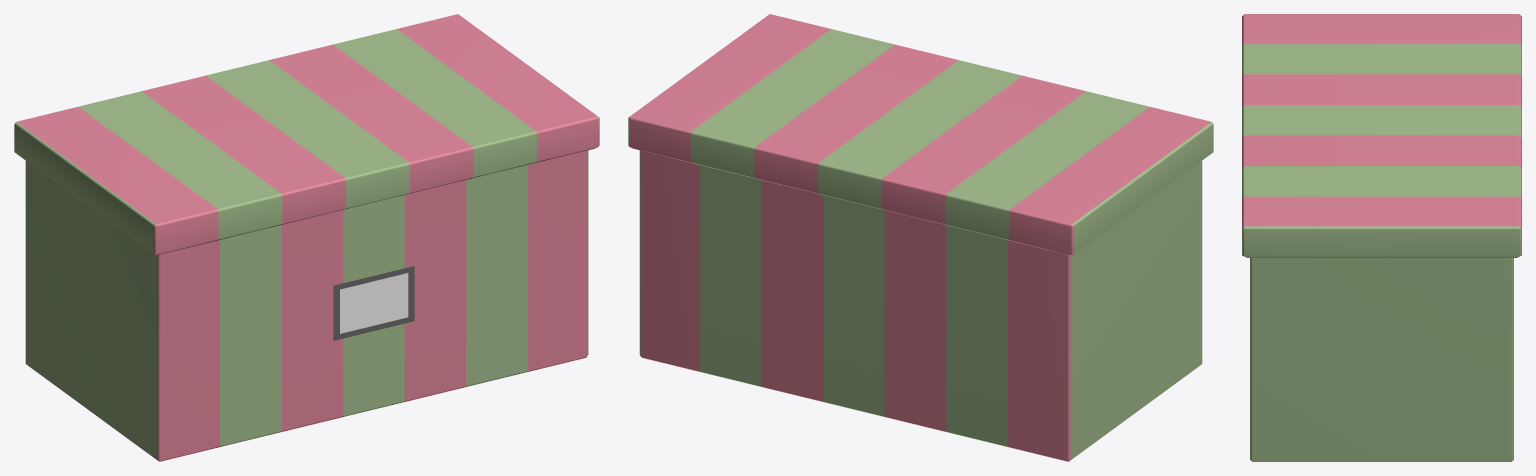
Rendered from Storage_box_1.glb.
3 views of the same model, side by side, from view 1: azimuth 30°, elevation 25°; view 2: azimuth 150°, elevation 25°; view 3: azimuth 270°, elevation 25° (orthographic).
Visible parts, largest first — view 1: Storage_box_1; view 2: Storage_box_1; view 3: Storage_box_1.
Boxes of the visible parts, bbox=[...] form: Storage_box_1: bbox=[14, 14, 599, 461]; Storage_box_1: bbox=[628, 14, 1213, 461]; Storage_box_1: bbox=[1242, 14, 1521, 461].
Bounding box in the file's own units: 0.5777 × 0.3006 × 0.3185.
Materials: 1 (1 with a texture image).
